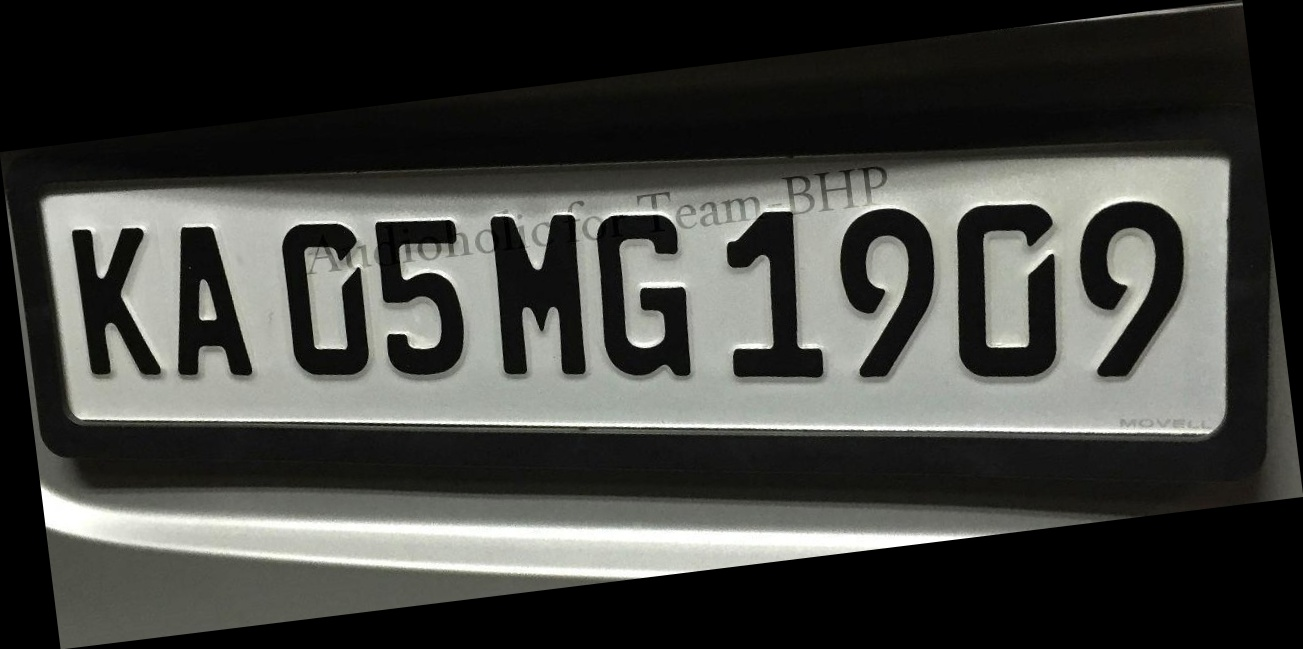character: (1073, 197, 1187, 382), (949, 194, 1061, 378), (718, 199, 827, 382), (482, 209, 589, 380), (837, 204, 937, 378), (592, 209, 692, 380), (373, 211, 468, 378), (275, 218, 368, 378), (73, 216, 161, 382), (170, 216, 256, 380)
